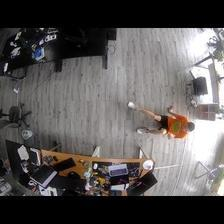fall: (126, 100, 197, 141)
